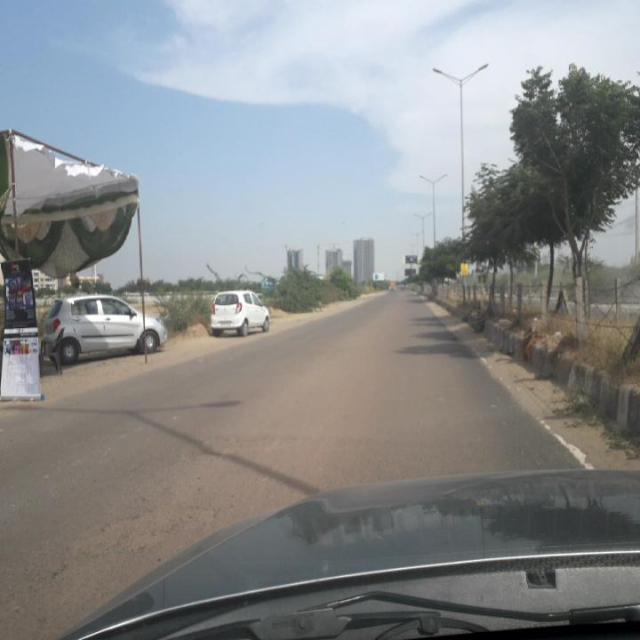D40: (61, 466, 230, 570)
D44: (472, 347, 585, 472)
